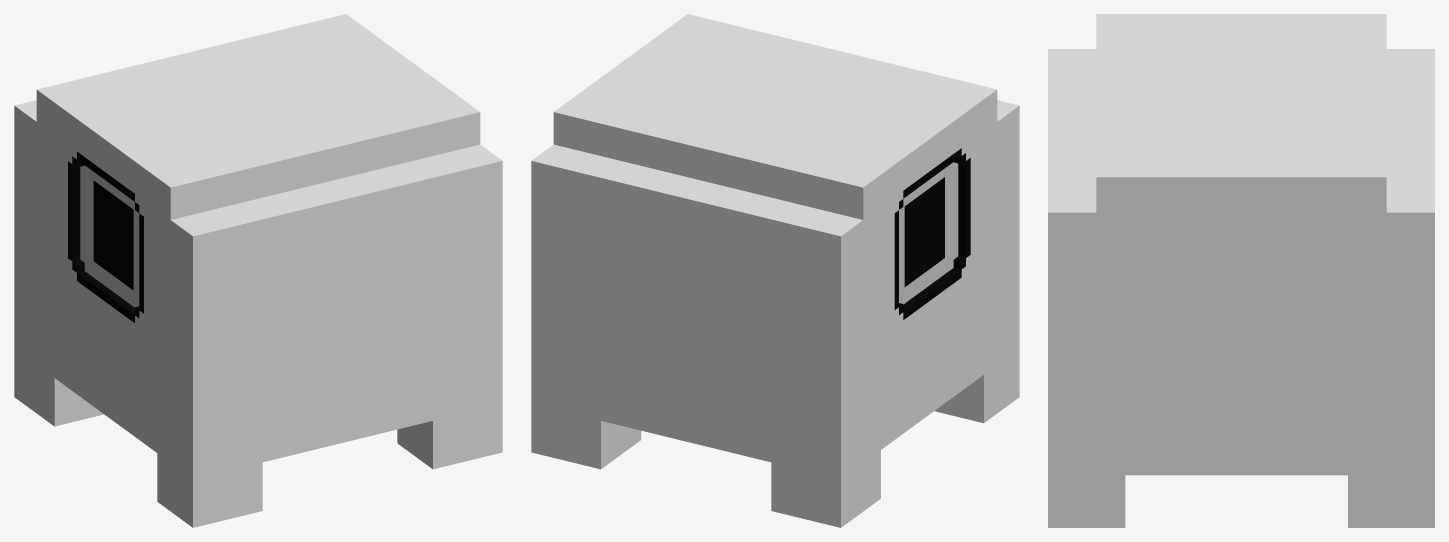
File: enemy2.obj
3 renders of one model, left to right at view 1: azimuth 30°, elevation 25°; view 2: azimuth 150°, elevation 25°; view 3: azimuth 270°, elevation 25°, orthographic. The views are drawn at different scales.
Size of the model in its own units: 4 by 4 by 4.
1 material, 1 textured.
